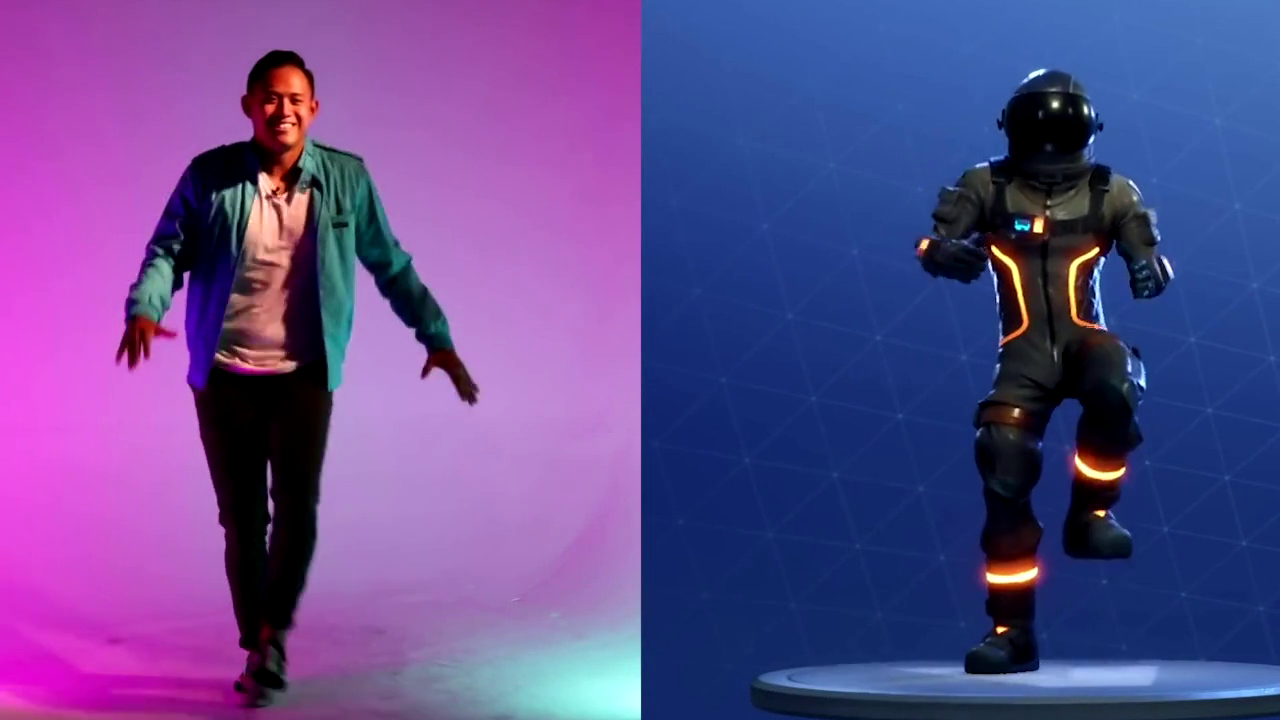Head: (235, 39, 333, 173)
Hip: (176, 347, 351, 462)
LeftElbow: (354, 235, 445, 295)
LeftShoulder: (302, 139, 392, 212)
LeftWrist: (404, 324, 504, 413)
RightElbow: (108, 194, 218, 279)
RightKnee: (204, 465, 270, 532)
RightShoulder: (164, 136, 281, 201)
RightWrist: (103, 291, 207, 394)
Torso: (200, 152, 358, 385)
